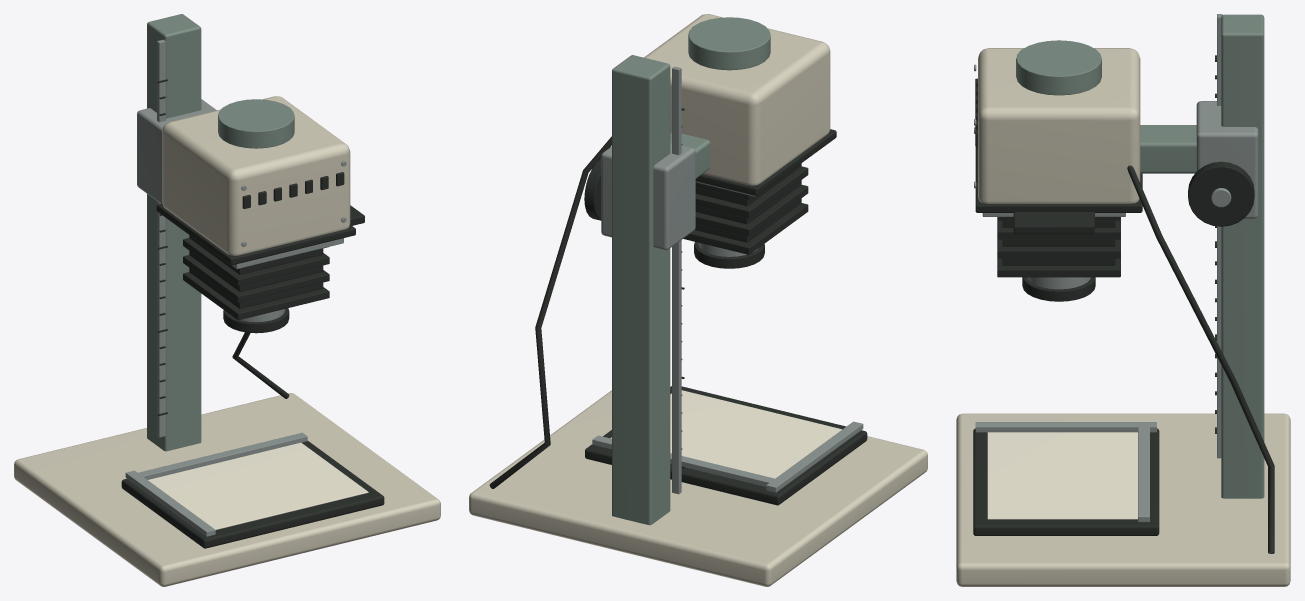
Rendered from CH09_Enlarger.fbx.
The picture shows the model from 3 angles, left to right: view 1: azimuth 30°, elevation 25°; view 2: azimuth 150°, elevation 25°; view 3: azimuth 270°, elevation 25°; orthographic projection. The views are drawn at different scales.
Parts seen in each view (by area): view 1: CH09_Enlarger_CH09_Cream, CH09_Enlarger_CH09_Green, CH09_Enlarger_CH09_Rubber, CH09_Enlarger_CH09_Paper, CH09_Enlarger_CH09_Steel; view 2: CH09_Enlarger_CH09_Cream, CH09_Enlarger_CH09_Green, CH09_Enlarger_CH09_Rubber, CH09_Enlarger_CH09_Steel, CH09_Enlarger_CH09_Paper; view 3: CH09_Enlarger_CH09_Cream, CH09_Enlarger_CH09_Green, CH09_Enlarger_CH09_Rubber, CH09_Enlarger_CH09_Paper, CH09_Enlarger_CH09_Steel.
Boxes of the visible parts, bbox=[...] form: CH09_Enlarger_CH09_Cream: bbox=[14, 96, 440, 586]; CH09_Enlarger_CH09_Green: bbox=[147, 14, 294, 451]; CH09_Enlarger_CH09_Rubber: bbox=[121, 79, 384, 548]; CH09_Enlarger_CH09_Paper: bbox=[148, 442, 368, 529]; CH09_Enlarger_CH09_Steel: bbox=[125, 39, 346, 536]; CH09_Enlarger_CH09_Cream: bbox=[469, 14, 927, 586]; CH09_Enlarger_CH09_Green: bbox=[612, 17, 770, 525]; CH09_Enlarger_CH09_Rubber: bbox=[489, 108, 867, 505]; CH09_Enlarger_CH09_Steel: bbox=[592, 66, 863, 494]; CH09_Enlarger_CH09_Paper: bbox=[610, 390, 841, 478]; CH09_Enlarger_CH09_Cream: bbox=[956, 48, 1290, 586]; CH09_Enlarger_CH09_Green: bbox=[1016, 14, 1264, 498]; CH09_Enlarger_CH09_Rubber: bbox=[973, 55, 1274, 553]; CH09_Enlarger_CH09_Paper: bbox=[987, 432, 1137, 519]; CH09_Enlarger_CH09_Steel: bbox=[974, 14, 1258, 522].
Size of the model in its own units: 76 by 113 by 70.
